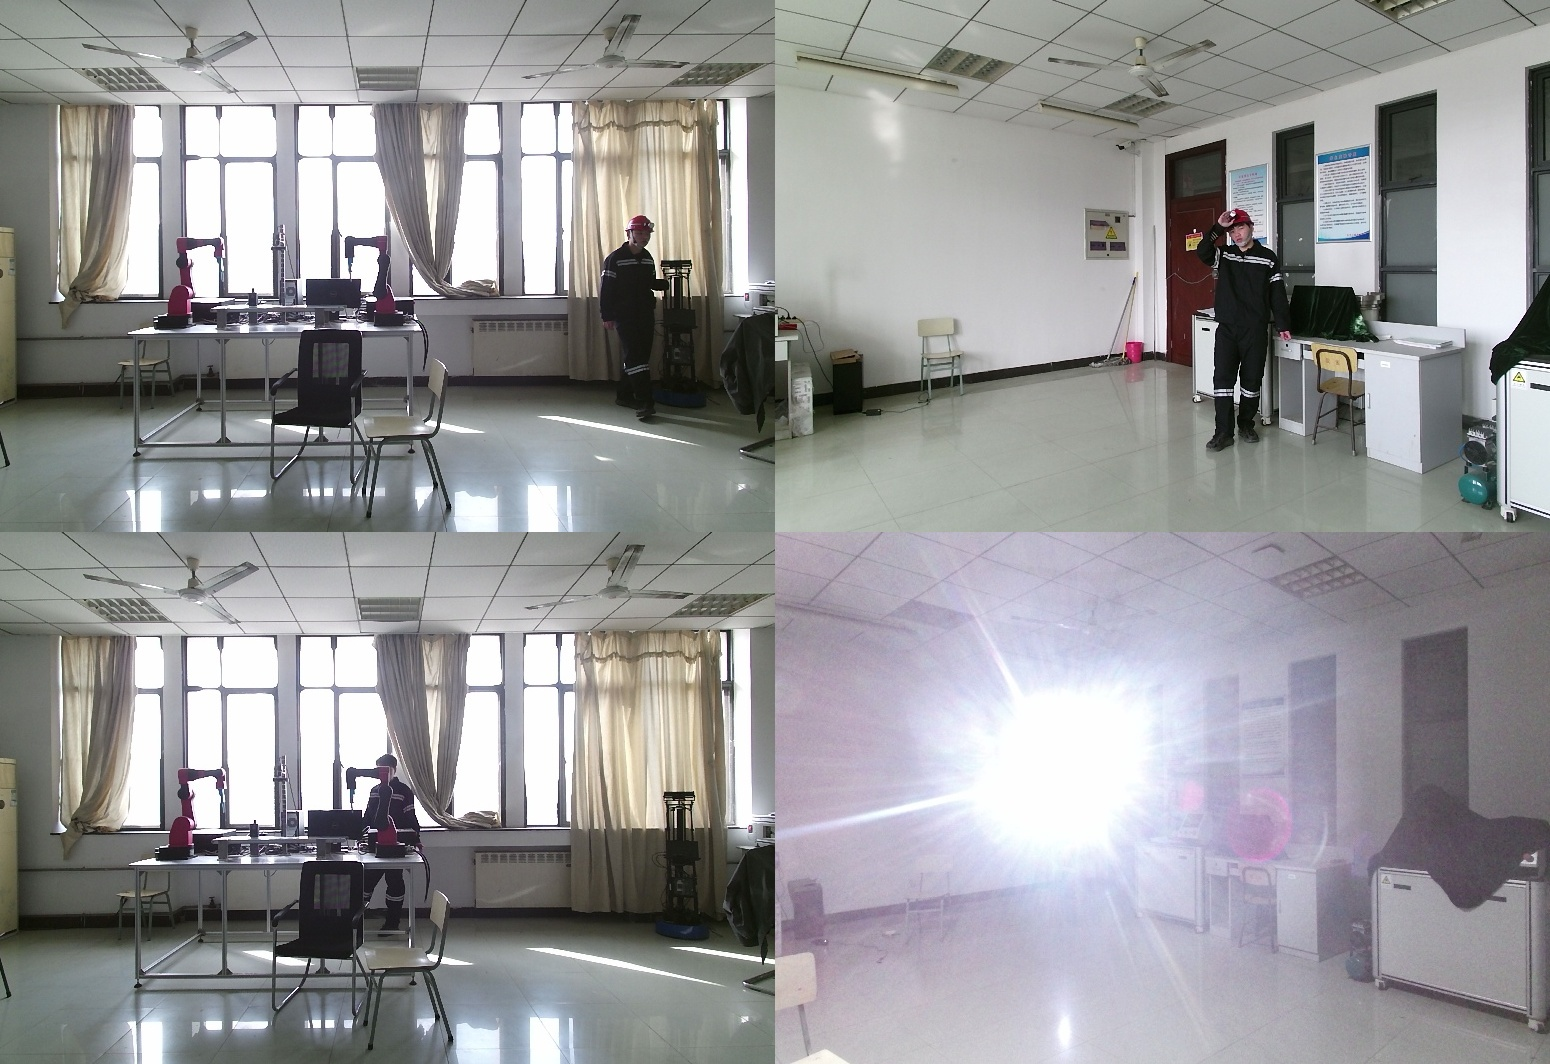person: (1200, 210, 1298, 450), (599, 215, 672, 422), (362, 758, 422, 939), (1038, 768, 1087, 901)
